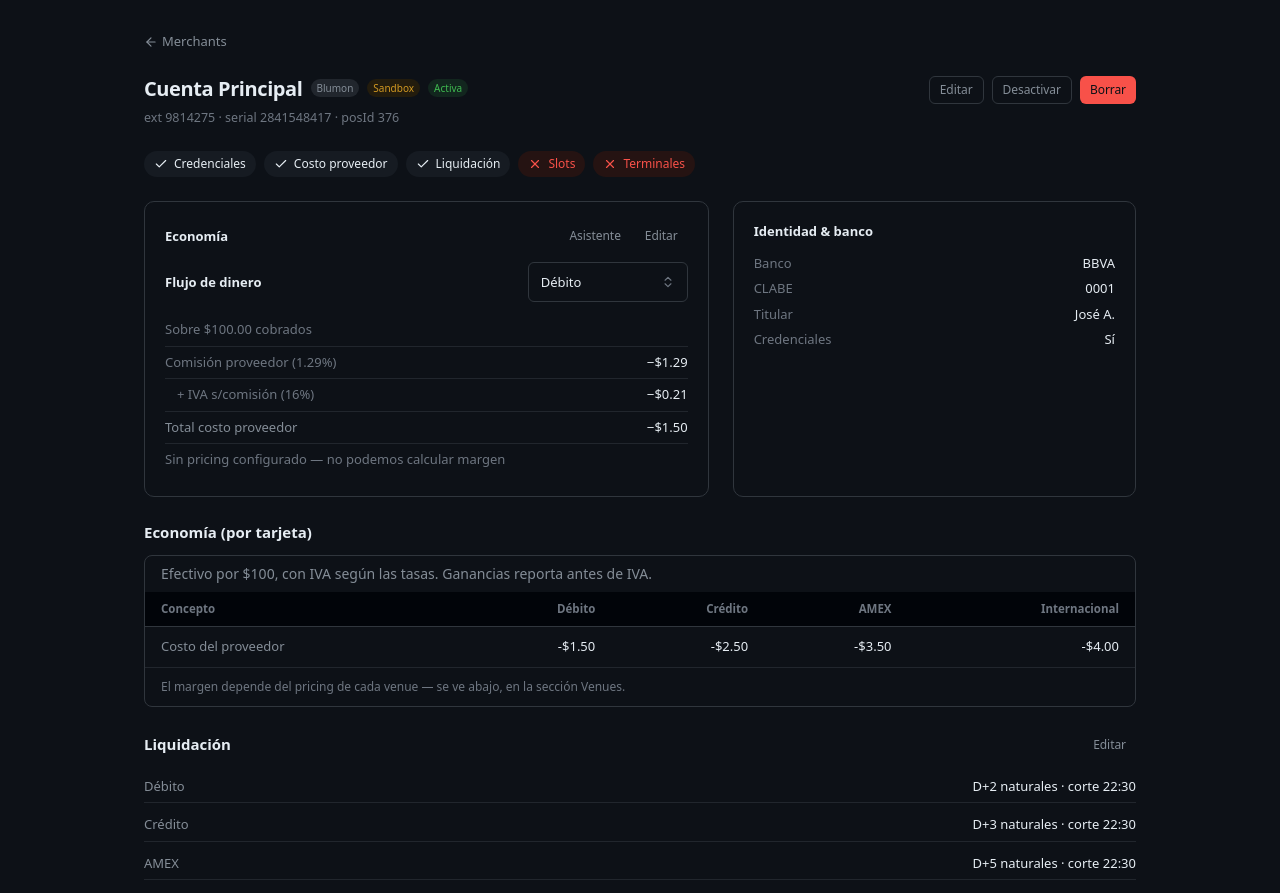
Scenario: MerchantDetailPage › Editar liquidación con la liquidación cargando DESPUÉS que la cuenta › abre el formulario con lo GUARDADO (2/3/5/7 naturales, corte 22:30), no con los defaults
The image size is (1280, 893).
Expected: the heading "Cuenta Principal" is shown, 144,76 -> 302,100
Expected: the text "D+5 naturales · corte 22:30" is shown, 972,854 -> 1136,873
Click the 3rd button "Editar": click(1110, 744) 1083,730 -> 1136,758
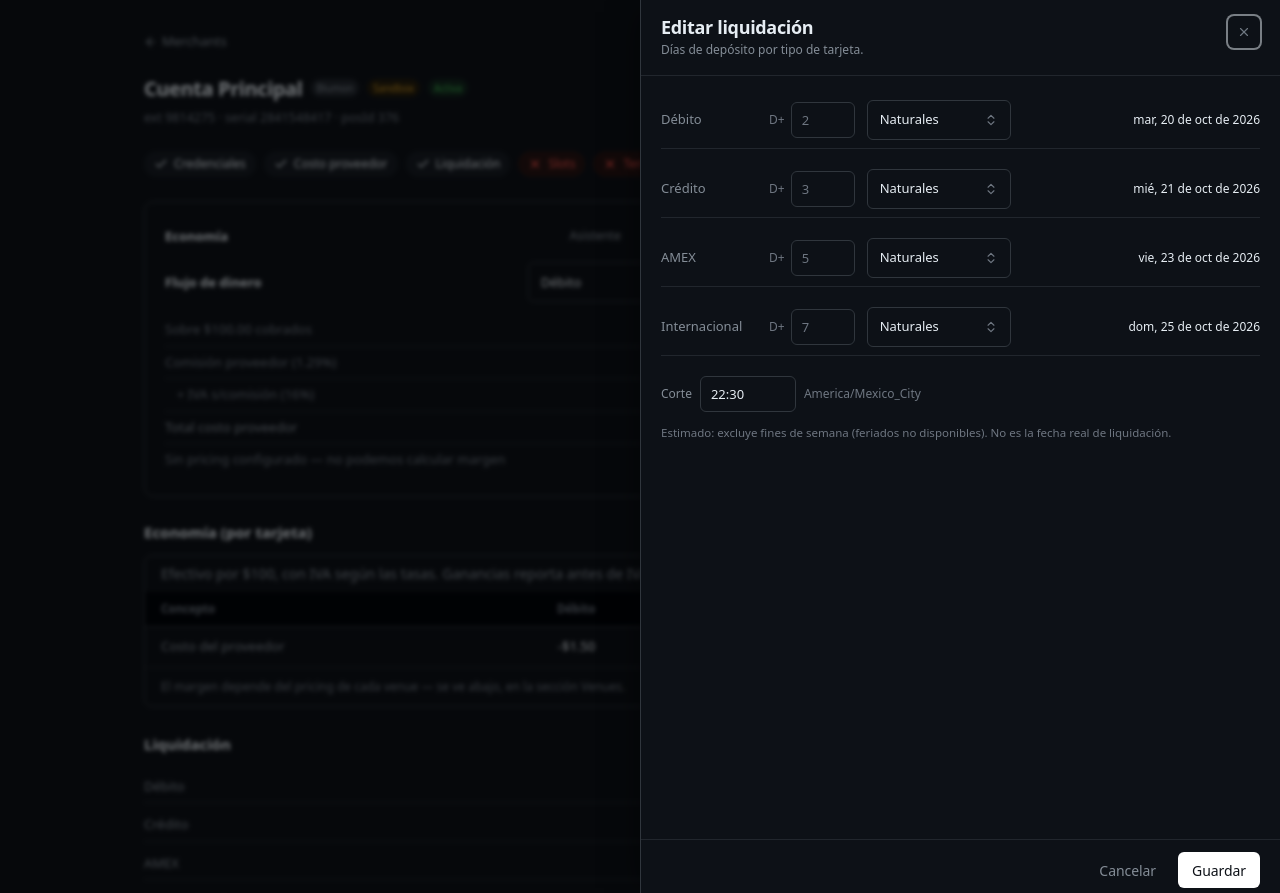
Result: the heading "Editar liquidación" is shown at 661,15 -> 813,39
Result: the button with aria-label "Tipo de días Débito" reads "Naturales" at 867,100 -> 1011,140
Result: the field labelled "Corte" holds "22:30" at 700,376 -> 796,412
